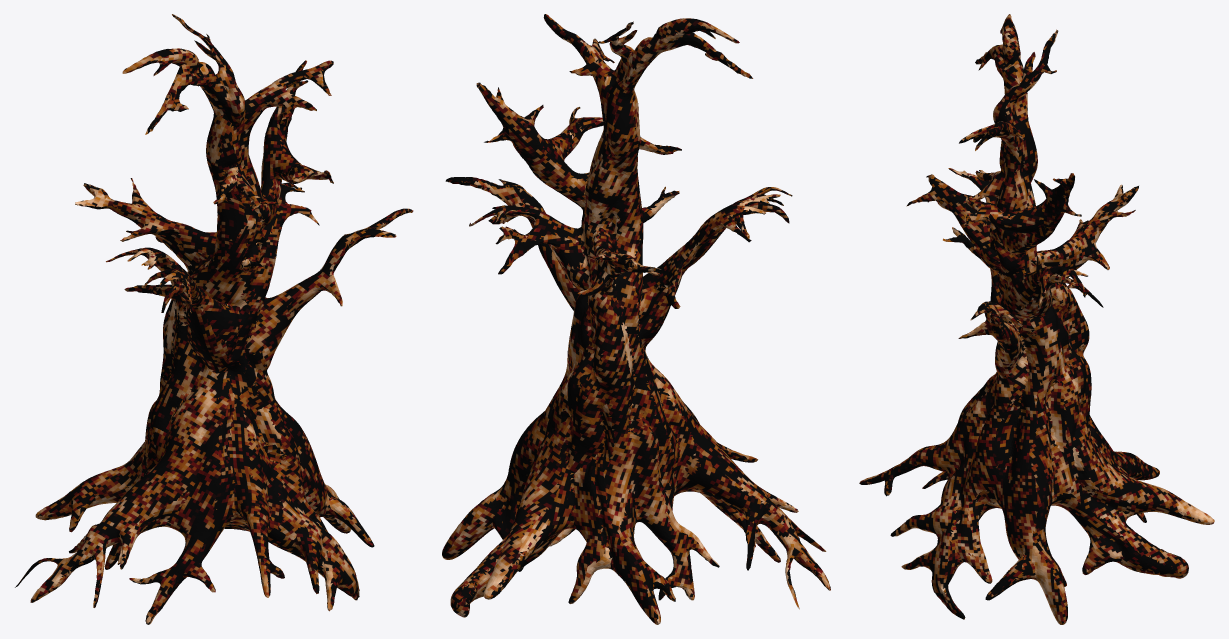
Rendered from tree4.glb.
3 views of the same model, side by side, from view 1: azimuth 30°, elevation 25°; view 2: azimuth 150°, elevation 25°; view 3: azimuth 270°, elevation 25° (orthographic). The views are drawn at different scales.
Visible parts, largest first — view 1: Cube; view 2: Cube; view 3: Cube.
Boxes of the visible parts, x1=… form: Cube: x1=15, y1=14, x2=413, y2=624; Cube: x1=442, y1=14, x2=830, y2=624; Cube: x1=859, y1=14, x2=1214, y2=624.
Bounding box in the file's own units: 10.59 × 15.52 × 9.44.
Materials: 1 (1 with a texture image).
